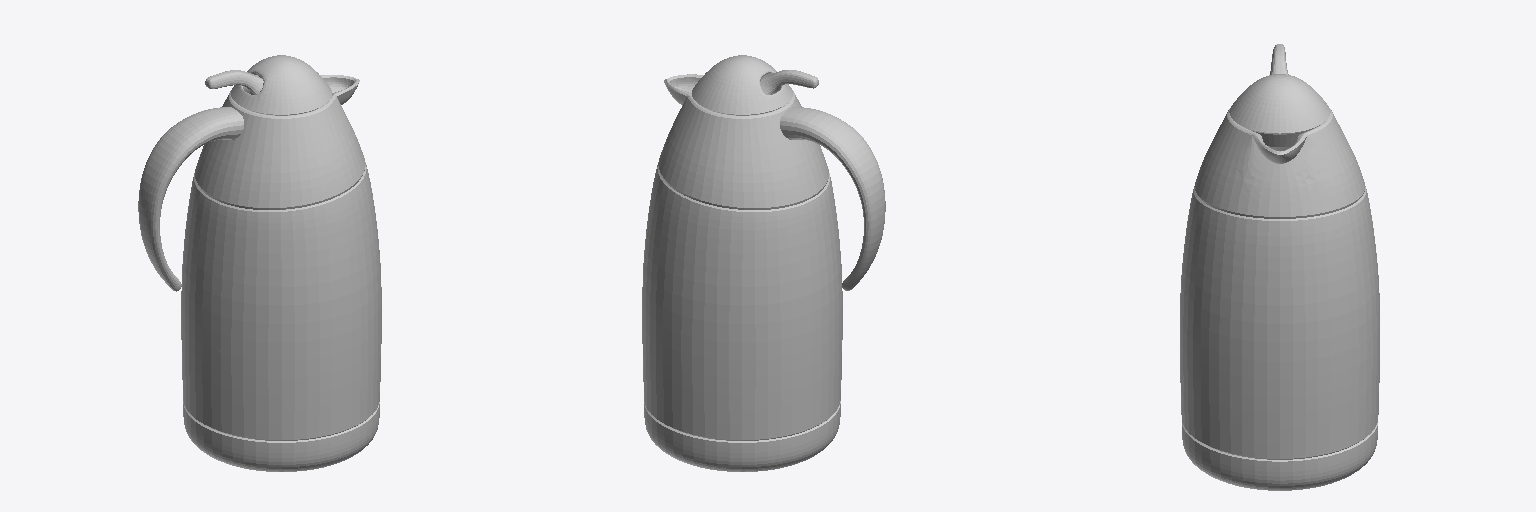
Rendered from coffee_pot.obj.
3 renders of one model, left to right at view 1: azimuth 30°, elevation 25°; view 2: azimuth 150°, elevation 25°; view 3: azimuth 270°, elevation 25°, orthographic.
Parts seen in each view (by area): view 1: Circle.000_Circle.001; view 2: Circle.000_Circle.001; view 3: Circle.000_Circle.001.
Part boxes in pixels (x1,y1,x2,y2): Circle.000_Circle.001: (138,55,381,471); Circle.000_Circle.001: (642,55,885,471); Circle.000_Circle.001: (1180,44,1379,490).
Size of the model in its own units: 2.93 by 4.76 by 2.27.